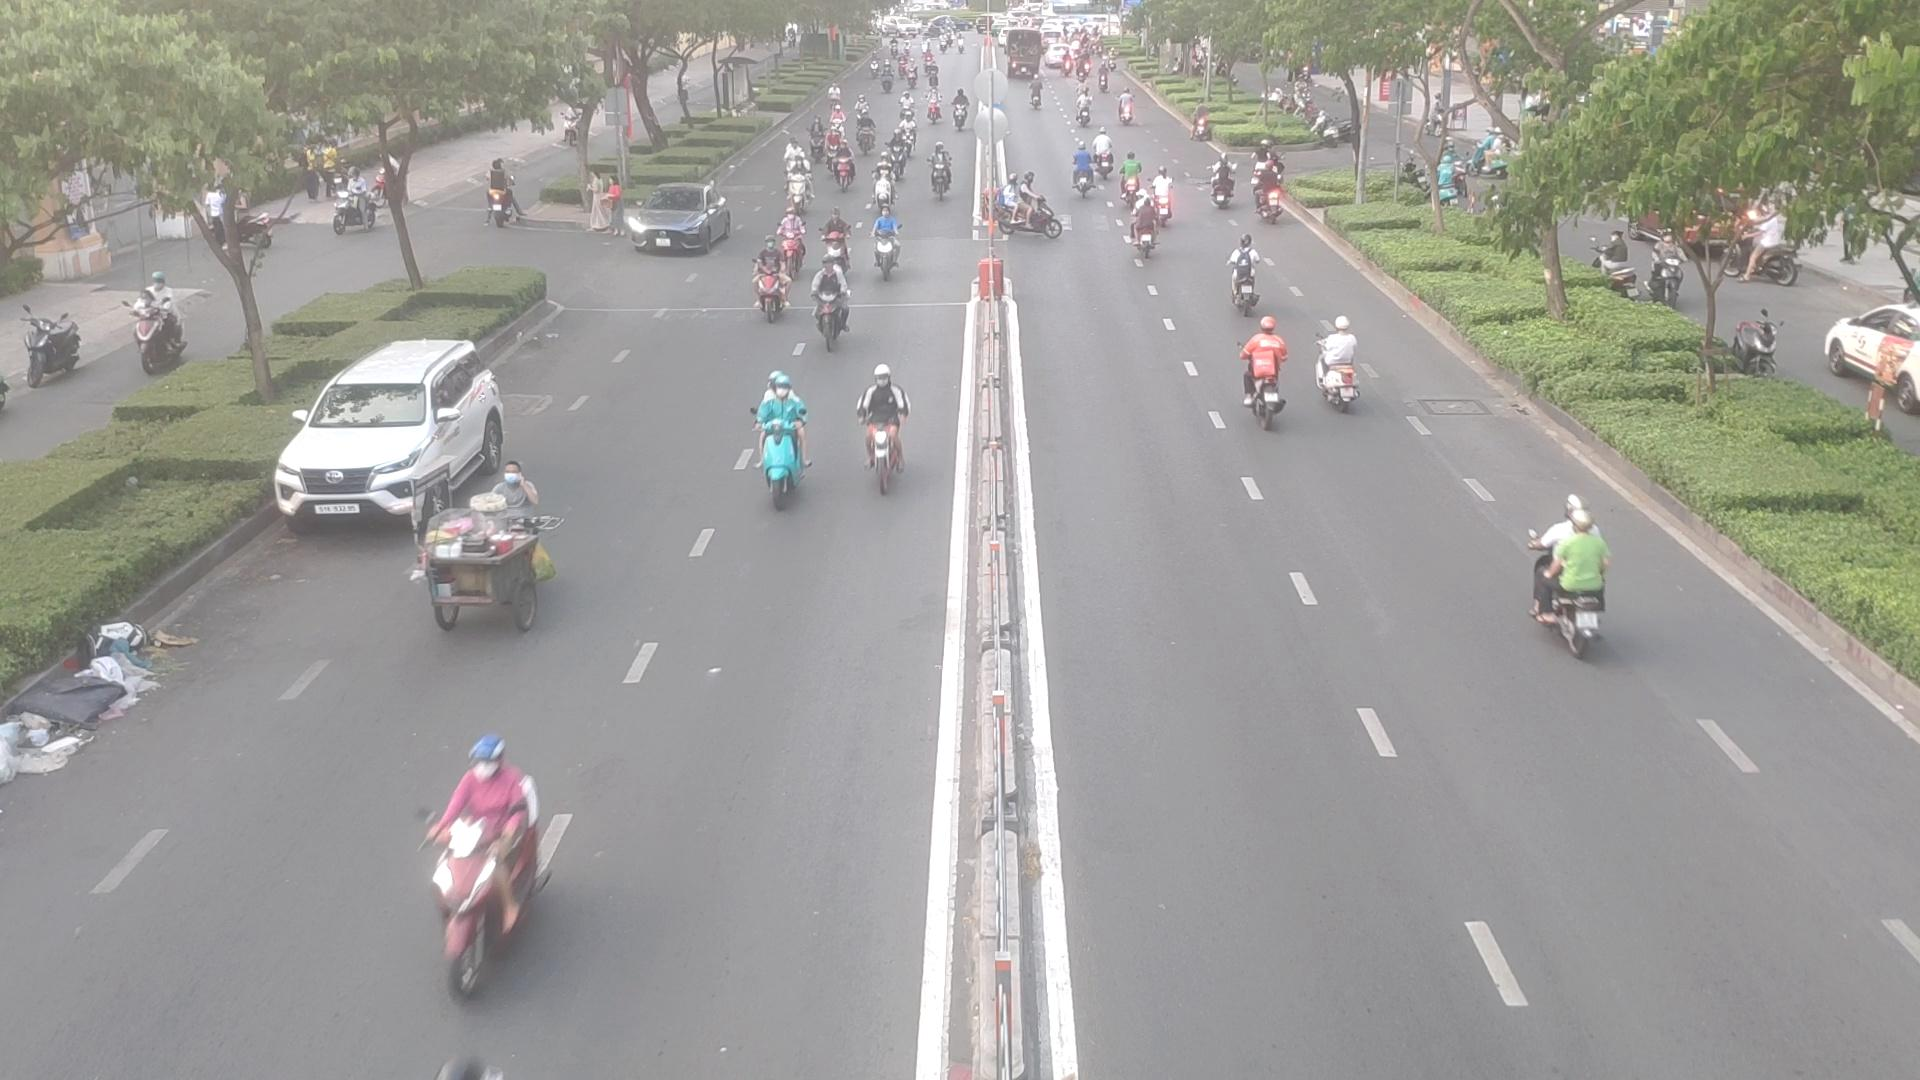car: (273, 345, 521, 537), (612, 193, 742, 258)
motorbike: (417, 738, 574, 971), (1524, 506, 1625, 669), (738, 377, 812, 512), (847, 367, 913, 508), (1236, 328, 1294, 429), (1315, 326, 1374, 423), (1004, 193, 1073, 244), (860, 212, 907, 284), (745, 248, 791, 320), (1226, 248, 1271, 316), (811, 276, 855, 345), (1145, 175, 1184, 225), (1065, 153, 1100, 199), (928, 154, 959, 200), (831, 149, 858, 190)
